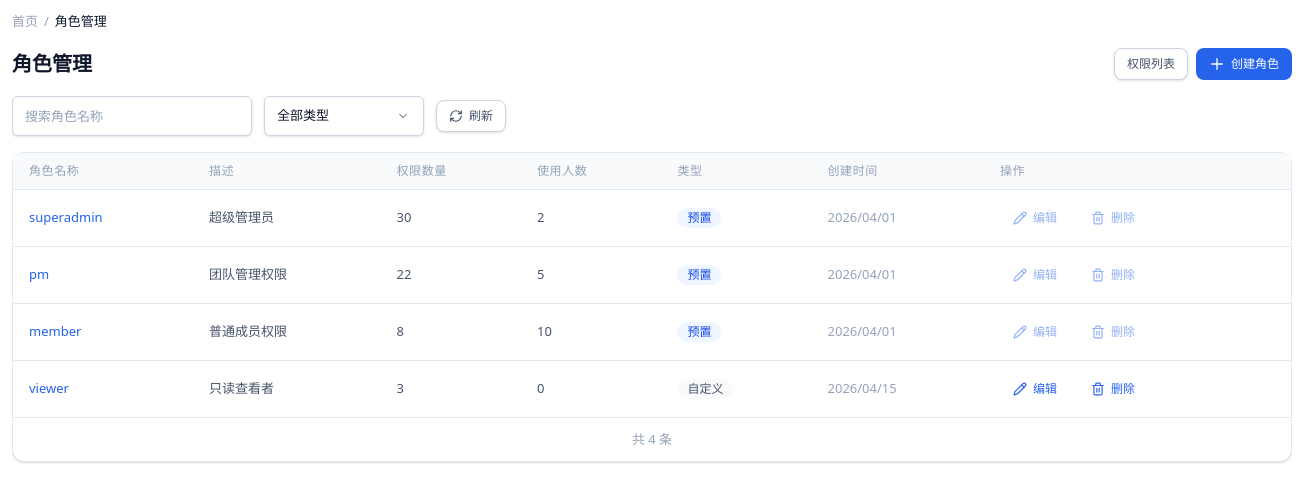
Test: RoleManagementPage › filters roles by preset/custom type
Expected: the button "superadmin" is shown, [29,208,102,227]
// Click the select trigger for preset filter
Click the dropdown at (344, 116), box [264,96,424,136]
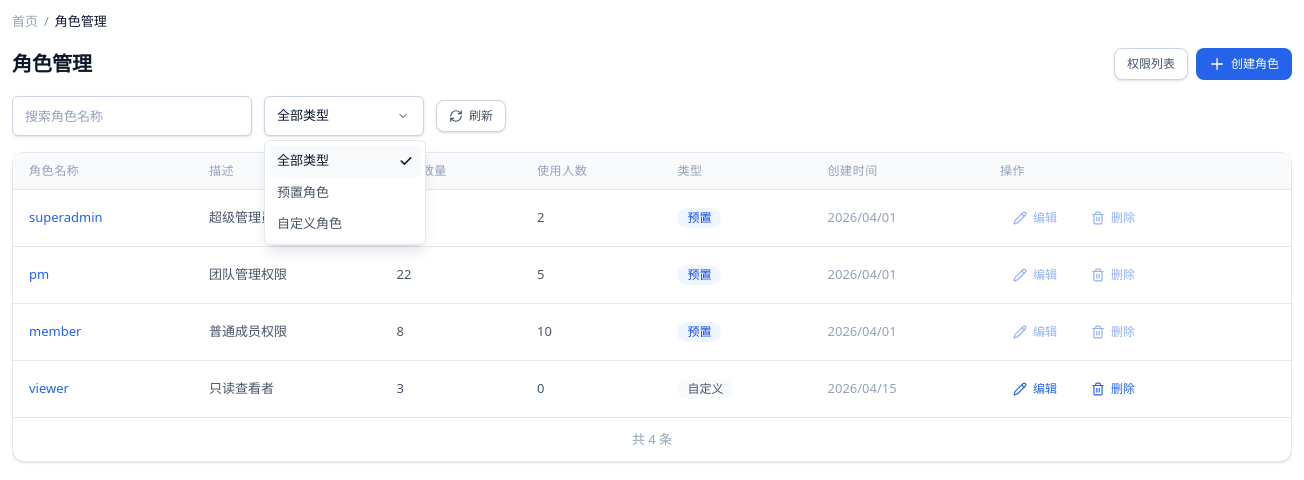
Now the text "自定义角色" is shown
Click the option "自定义角色" at (310, 223), box [277,214,342,232]
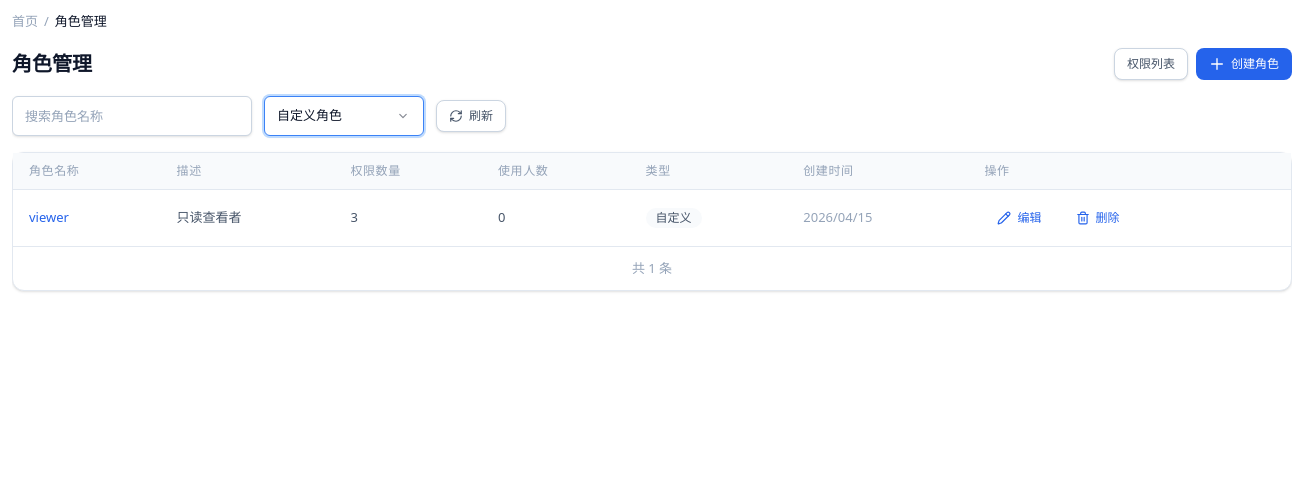
Expected: the button "viewer" is shown, [29,208,69,227]
Now the button "superadmin" is gone
